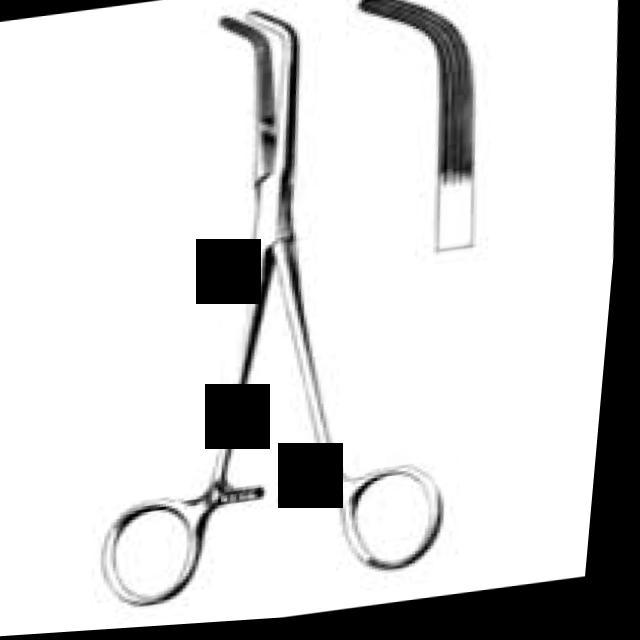Rectangle Cholecystectomy Forceps: (43, 0, 499, 623)
